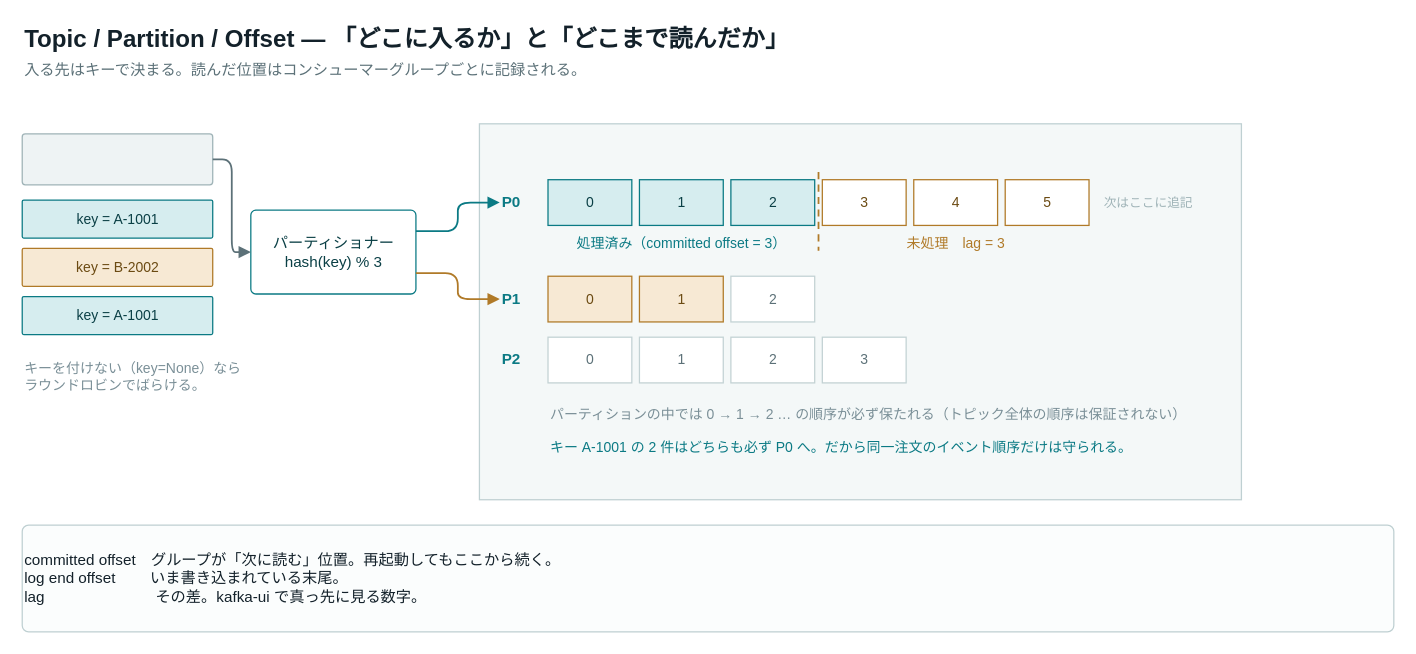
This 1416x654 diagram has some shape labels left out. The box of each missing label's shape, as (x1, y1, x2, y2) in pixels:
Producer: (21, 133, 213, 185)
Topic: pubsub.orders.v1 partitions = 3: (478, 123, 1241, 500)
